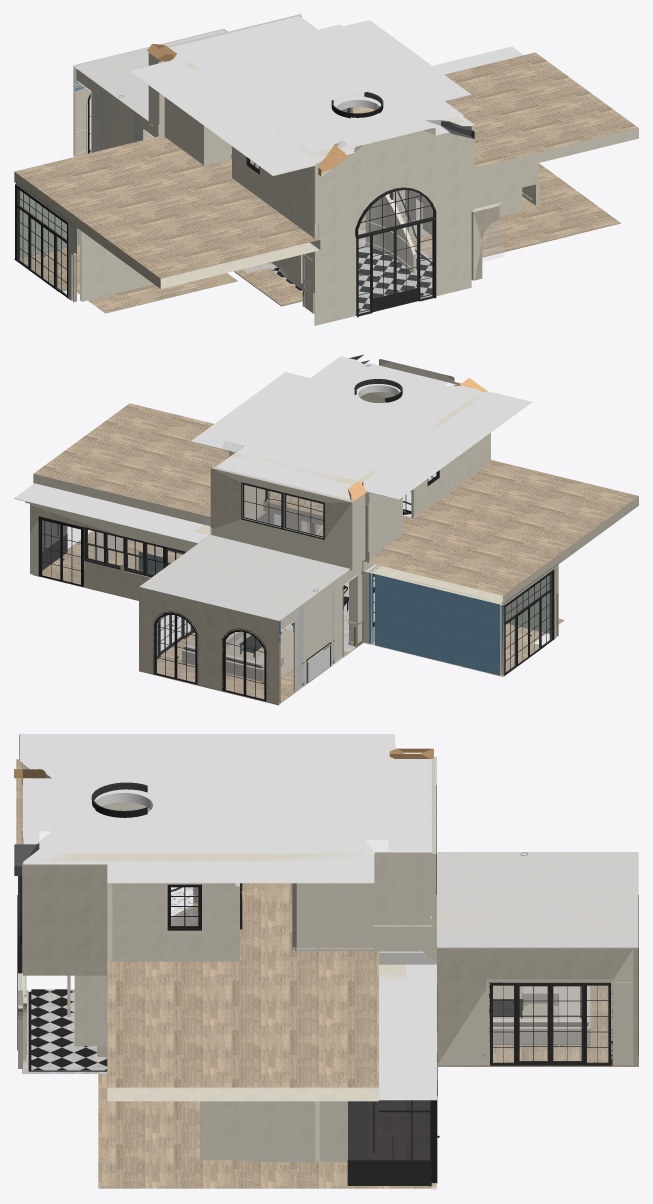
Rendered from family-room-14c0f5d8632e.glb.
3 renders of one model, top to bottom at view 1: azimuth 30°, elevation 25°; view 2: azimuth 150°, elevation 25°; view 3: azimuth 270°, elevation 25°, orthographic. The views are drawn at different scales.
Visible parts, largest first — view 1: family-room-look-2575515a05775d9e, family-room-look-e8793759323e04f0, family-room-look-9d91b47435c6fb33, family-room-look-34525a54e63b733b, family-room-look-3b0077416469e01b, family-room-look-698abdfdc6fb970d, family-room-look-d5a4a1b5d3594c04, family-room-look-08d72923bcfd3529, family-room-look-5f56640b372ec5ce, family-room-look-746250f96522f643, family-room-4a969f5cc1ae3dfe, family-room-look-c4ac463b6a960119 (+21 smaller); view 2: family-room-look-2575515a05775d9e, family-room-look-e8793759323e04f0, family-room-look-9d91b47435c6fb33, family-room-4a969f5cc1ae3dfe, family-room-look-b19b106fc304963c, family-room-look-245f595ae2832e16, family-room-969b861f9850351e, family-room-look-bfb9fa537cd11d1d, family-room-look-9a0e9ee9b2a451d7, family-room-9d80b152e3f2ea10, family-room-look-08d72923bcfd3529, family-room-look-5f56640b372ec5ce (+22 smaller); view 3: family-room-look-2575515a05775d9e, family-room-look-e8793759323e04f0, family-room-look-9d91b47435c6fb33, family-room-4a969f5cc1ae3dfe, family-room-look-3b0077416469e01b, family-room-e706aa16b4547c37, family-room-3d5fbc3a2a5f9c05, family-room-look-62353aa10fc57f23, family-room-50d54560d247b537, family-room-look-c51ecd664a3b22a3, family-room-look-9a0e9ee9b2a451d7, family-room-look-5f56640b372ec5ce (+24 smaller).
Boxes of the visible parts, x1,y1,x2,y2 form: family-room-look-2575515a05775d9e: (14,52,638,288); family-room-look-e8793759323e04f0: (180,23,463,158); family-room-look-9d91b47435c6fb33: (130,16,474,175); family-room-look-34525a54e63b733b: (314,126,471,244); family-room-look-3b0077416469e01b: (14,163,620,306); family-room-look-698abdfdc6fb970d: (356,218,436,317); family-room-look-d5a4a1b5d3594c04: (314,208,471,325); family-room-look-08d72923bcfd3529: (15,184,68,298); family-room-look-5f56640b372ec5ce: (254,81,404,139); family-room-look-746250f96522f643: (232,146,317,238); family-room-4a969f5cc1ae3dfe: (73,29,226,120); family-room-look-c4ac463b6a960119: (272,247,432,311); family-room-look-2575515a05775d9e: (33,403,638,604); family-room-look-e8793759323e04f0: (222,356,481,485); family-room-look-9d91b47435c6fb33: (191,362,532,500); family-room-4a969f5cc1ae3dfe: (139,534,349,621); family-room-look-b19b106fc304963c: (375,573,501,675); family-room-look-245f595ae2832e16: (210,467,352,568); family-room-969b861f9850351e: (139,587,280,704); family-room-look-bfb9fa537cd11d1d: (30,502,197,600); family-room-look-9a0e9ee9b2a451d7: (14,483,208,543); family-room-9d80b152e3f2ea10: (280,562,362,690); family-room-look-08d72923bcfd3529: (504,569,554,675); family-room-look-5f56640b372ec5ce: (324,377,464,430); family-room-look-2575515a05775d9e: (16,759,378,1101); family-room-look-e8793759323e04f0: (39,756,388,861); family-room-look-9d91b47435c6fb33: (19,734,431,883); family-room-4a969f5cc1ae3dfe: (436,852,638,948); family-room-look-3b0077416469e01b: (98,920,436,1188); family-room-e706aa16b4547c37: (437,948,633,1065); family-room-3d5fbc3a2a5f9c05: (489,981,612,1065); family-room-look-62353aa10fc57f23: (23,865,112,975); family-room-50d54560d247b537: (436,852,638,948); family-room-look-c51ecd664a3b22a3: (112,883,239,961); family-room-look-9a0e9ee9b2a451d7: (379,964,436,1100); family-room-look-5f56640b372ec5ce: (83,756,196,825).
Size of the model in its own units: 21.07 by 7.01 by 16.88.
Materials: 60 (12 with a texture image).
